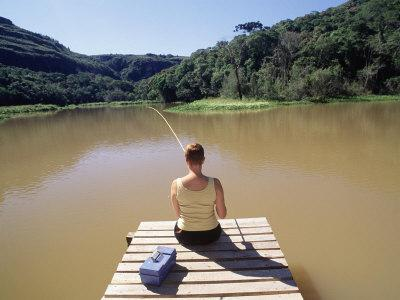person: (171, 142, 227, 247)
